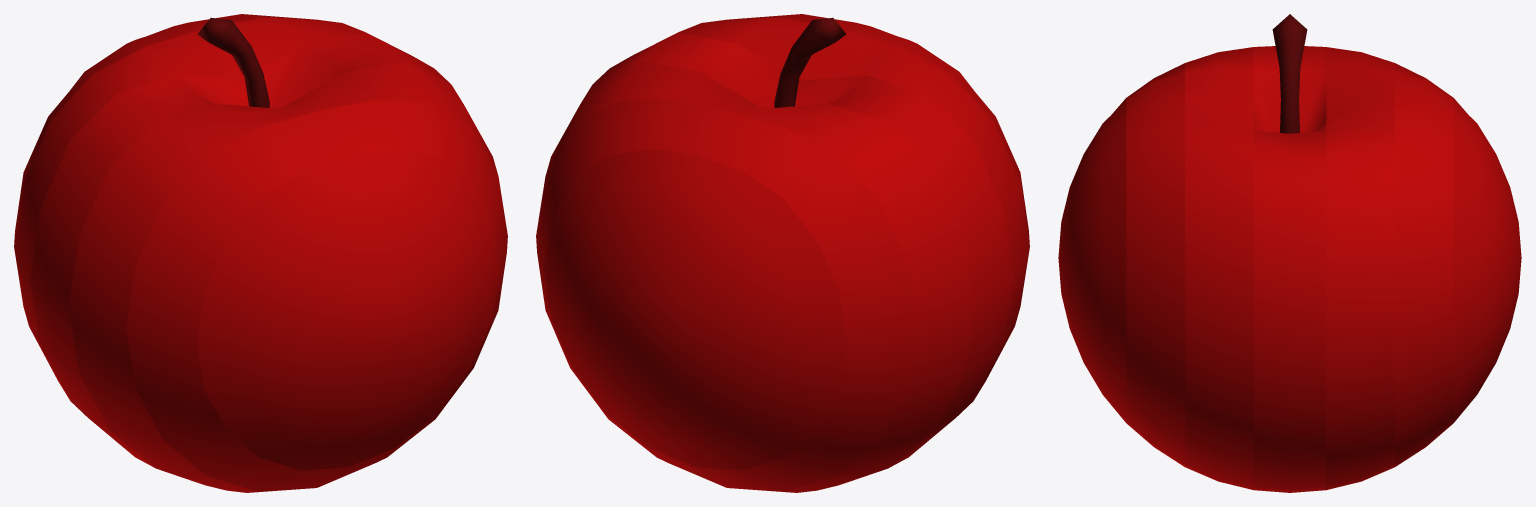
Rendered from Apple_Red_Model.fbx.
3 renders of one model, left to right at view 1: azimuth 30°, elevation 25°; view 2: azimuth 150°, elevation 25°; view 3: azimuth 270°, elevation 25°, orthographic. The views are drawn at different scales.
Visible parts, largest first — view 1: Apple_Red_Model; view 2: Apple_Red_Model; view 3: Apple_Red_Model.
Boxes of the visible parts, x1=… form: Apple_Red_Model: x1=14, y1=14, x2=507, y2=492; Apple_Red_Model: x1=536, y1=14, x2=1029, y2=492; Apple_Red_Model: x1=1058, y1=14, x2=1521, y2=492.
Size of the model in its own units: 7.66 by 7.78 by 7.66.
